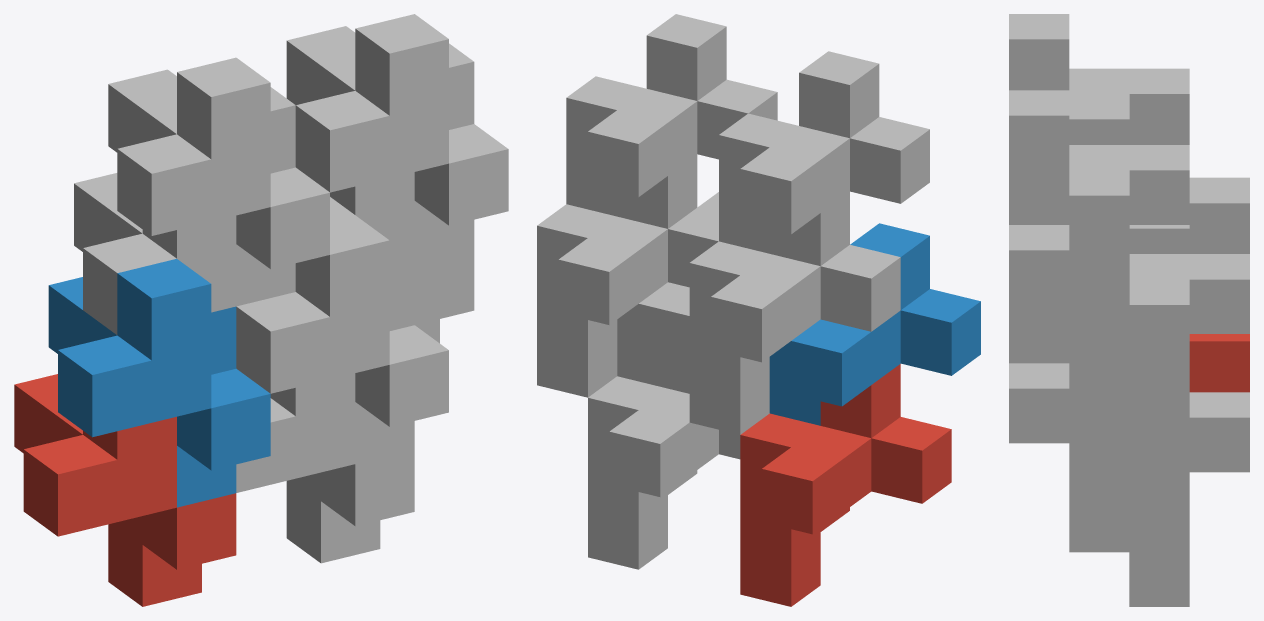
The model's file is tiling.obj.
3 renders of one model, left to right at view 1: azimuth 30°, elevation 25°; view 2: azimuth 150°, elevation 25°; view 3: azimuth 270°, elevation 25°, orthographic. The views are drawn at different scales.
Parts seen in each view (by area): view 1: copy_1_domain_8, copy_1_domain_4, copy_1_domain_2, copy_1_domain_6, copy_1_domain_1, copy_1_domain_5, copy_1_domain_3, copy_1_domain_7; view 2: copy_1_domain_1, copy_1_domain_3, copy_1_domain_4, copy_1_domain_7, copy_1_domain_8, copy_1_domain_5, copy_1_domain_2, copy_1_domain_6; view 3: copy_1_domain_8, copy_1_domain_7, copy_1_domain_5, copy_1_domain_4, copy_1_domain_6, copy_1_domain_3, copy_1_domain_1.
Boxes of the visible parts, x1,y1,x2,y2 form: copy_1_domain_8: (286, 14, 508, 262); copy_1_domain_4: (108, 57, 329, 306); copy_1_domain_2: (48, 259, 270, 507); copy_1_domain_6: (236, 215, 448, 463); copy_1_domain_1: (14, 374, 236, 606); copy_1_domain_5: (236, 373, 414, 563); copy_1_domain_3: (74, 173, 236, 334); copy_1_domain_7: (330, 172, 474, 343); copy_1_domain_1: (740, 364, 951, 606); copy_1_domain_3: (689, 192, 900, 434); copy_1_domain_4: (719, 51, 929, 253); copy_1_domain_7: (537, 154, 718, 397); copy_1_domain_8: (566, 14, 777, 216); copy_1_domain_5: (588, 364, 740, 569); copy_1_domain_2: (769, 223, 980, 425); copy_1_domain_6: (617, 192, 718, 388); copy_1_domain_8: (1009, 90, 1189, 359); copy_1_domain_7: (1069, 254, 1249, 468); copy_1_domain_5: (1069, 392, 1249, 606); copy_1_domain_4: (1009, 14, 1189, 144); copy_1_domain_6: (1009, 305, 1129, 497); copy_1_domain_3: (1129, 177, 1249, 253); copy_1_domain_1: (1189, 334, 1249, 392).
Size of the model in its own units: 7 by 9 by 4.
